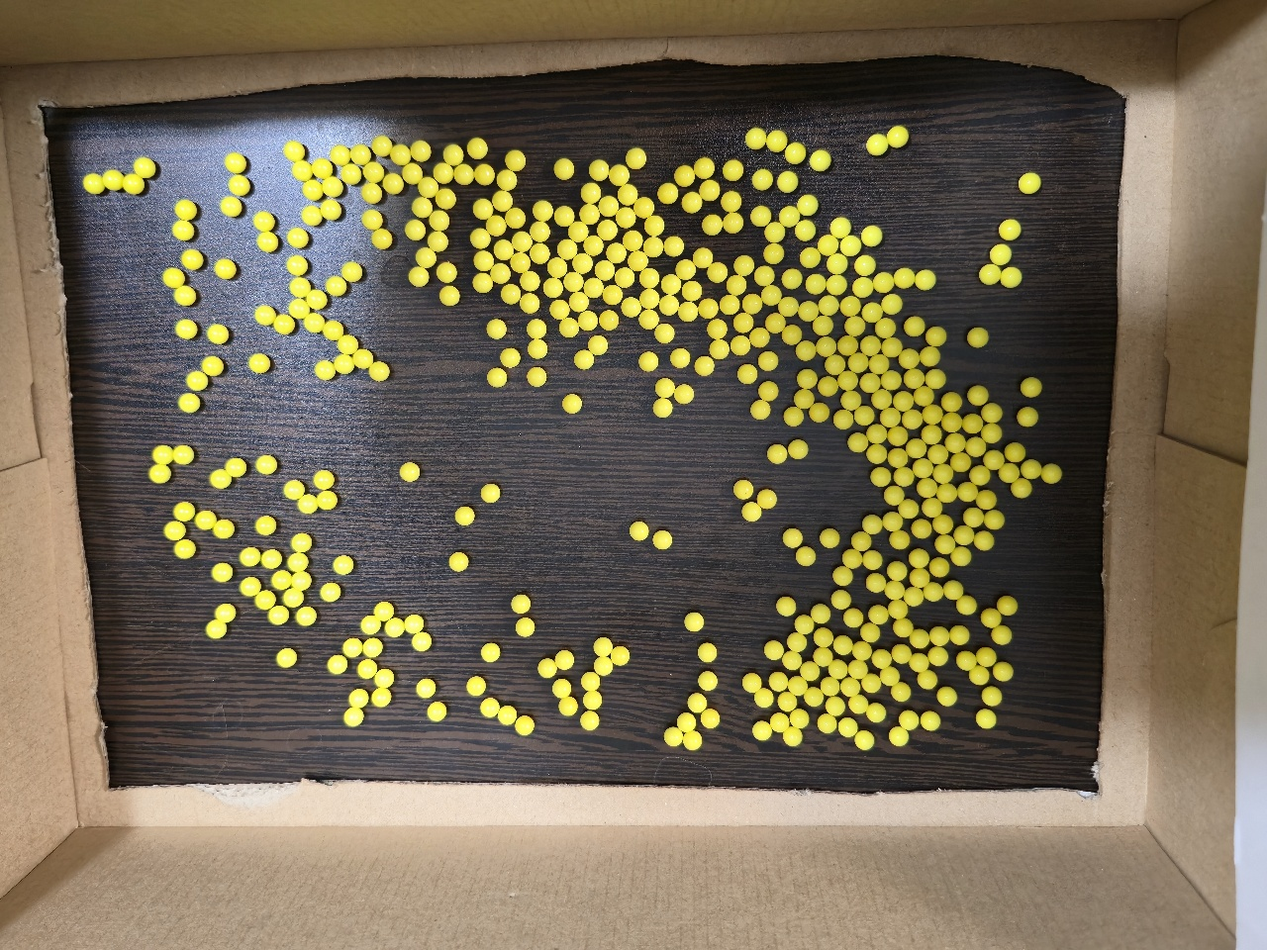yellow_bead: (984, 269, 996, 280), (1023, 178, 1035, 189), (790, 147, 801, 159), (892, 131, 904, 142), (214, 474, 227, 484), (279, 319, 290, 330), (295, 282, 306, 293), (1006, 272, 1017, 283), (421, 252, 432, 263), (845, 240, 856, 251), (1005, 225, 1016, 236), (326, 204, 337, 215), (417, 202, 428, 213), (366, 187, 377, 198), (388, 178, 399, 189), (757, 174, 768, 185), (345, 169, 356, 180), (139, 162, 150, 173), (230, 157, 241, 168), (815, 155, 826, 166), (472, 143, 483, 154), (287, 593, 299, 603), (253, 358, 265, 368), (212, 329, 224, 339), (179, 291, 191, 301), (180, 205, 192, 215), (783, 176, 793, 188), (559, 163, 569, 175), (153, 469, 166, 478), (281, 653, 292, 663), (211, 623, 222, 633), (365, 620, 376, 630), (244, 582, 255, 592), (217, 568, 228, 578), (244, 552, 255, 562), (318, 475, 329, 485), (178, 450, 189, 460), (184, 398, 195, 408), (192, 376, 203, 386), (320, 365, 331, 375), (309, 318, 320, 328), (294, 304, 305, 314), (664, 300, 674, 311), (887, 299, 897, 310), (858, 282, 868, 293), (879, 277, 889, 288), (620, 272, 630, 283), (346, 267, 357, 277), (860, 260, 870, 271), (832, 258, 842, 269), (806, 252, 816, 263), (996, 249, 1006, 260), (769, 248, 779, 259), (499, 244, 509, 255), (262, 237, 273, 247), (517, 237, 528, 247), (292, 233, 303, 243), (866, 231, 877, 241), (573, 227, 583, 238), (178, 226, 189, 236), (410, 225, 420, 236), (835, 223, 845, 234), (708, 220, 718, 231), (511, 213, 521, 224), (785, 211, 795, 222), (756, 211, 766, 222), (559, 211, 569, 222), (585, 209, 595, 220), (226, 202, 237, 212), (803, 200, 813, 211), (498, 196, 508, 207), (586, 188, 596, 199), (705, 185, 715, 196), (424, 182, 434, 193), (234, 180, 244, 191), (502, 175, 512, 186), (615, 170, 625, 181), (408, 168, 418, 179), (368, 167, 379, 177), (700, 163, 710, 174), (511, 155, 521, 166), (448, 149, 458, 160), (396, 149, 406, 160), (416, 145, 426, 156), (289, 145, 300, 155), (376, 141, 387, 151), (872, 140, 883, 150), (750, 134, 761, 144), (288, 486, 300, 495), (230, 463, 242, 472), (260, 460, 272, 469), (180, 325, 192, 334), (353, 694, 363, 704), (421, 684, 431, 694), (362, 664, 372, 674), (368, 643, 378, 653), (347, 643, 357, 653), (276, 575, 286, 585), (267, 554, 277, 564), (876, 472, 886, 482), (886, 413, 896, 423), (930, 374, 940, 384), (208, 361, 218, 371), (830, 360, 840, 370), (874, 359, 884, 369), (358, 354, 368, 364), (260, 311, 270, 321), (867, 308, 877, 318), (804, 307, 814, 317), (704, 304, 714, 314), (574, 297, 584, 307), (312, 295, 322, 305), (506, 289, 516, 299), (687, 286, 697, 296), (589, 283, 599, 293), (548, 283, 558, 293), (331, 281, 341, 291), (831, 280, 841, 290), (666, 280, 676, 290), (478, 278, 488, 288), (900, 273, 910, 283), (414, 272, 424, 282), (713, 268, 723, 278), (496, 268, 506, 278), (681, 265, 691, 275), (739, 261, 749, 271), (578, 258, 588, 268), (516, 257, 526, 267), (479, 256, 489, 266), (612, 248, 622, 258), (669, 241, 679, 251), (589, 240, 599, 250), (770, 228, 780, 238), (801, 226, 811, 236), (603, 225, 613, 235), (367, 215, 377, 225), (307, 211, 317, 221), (538, 206, 548, 216), (478, 204, 488, 214), (328, 182, 338, 192), (680, 171, 690, 181), (297, 166, 307, 176), (772, 136, 782, 146), (301, 612, 312, 621), (220, 609, 231, 618), (259, 596, 270, 605), (292, 558, 303, 567), (296, 538, 307, 547), (169, 526, 180, 535), (322, 496, 333, 505), (865, 341, 876, 350), (342, 340, 353, 349), (328, 326, 339, 335), (627, 302, 636, 313), (767, 290, 776, 301), (168, 273, 179, 282), (553, 262, 562, 273), (649, 241, 658, 252), (650, 221, 659, 232), (258, 217, 269, 226), (688, 197, 697, 208), (727, 196, 736, 207), (624, 189, 633, 200), (594, 165, 603, 176), (632, 153, 641, 164), (178, 509, 190, 517), (860, 735, 869, 745), (757, 726, 767, 735), (843, 722, 852, 732), (905, 715, 914, 725), (981, 714, 991, 723), (349, 712, 358, 722), (588, 695, 597, 705), (376, 694, 386, 703), (845, 683, 855, 692), (379, 674, 389, 683), (599, 661, 608, 671), (333, 660, 342, 670), (769, 646, 779, 655), (599, 642, 608, 652), (417, 637, 427, 646), (390, 622, 399, 632), (379, 607, 389, 616), (297, 577, 307, 586), (338, 561, 348, 570), (868, 555, 877, 565), (788, 533, 798, 542), (960, 530, 969, 540), (302, 500, 312, 509), (900, 472, 909, 482), (938, 469, 948, 478), (1005, 468, 1014, 478), (405, 468, 415, 477), (933, 450, 943, 459), (157, 450, 167, 459), (912, 444, 922, 453), (853, 438, 863, 447), (909, 415, 918, 425), (839, 415, 848, 425), (859, 412, 869, 421), (846, 396, 856, 405), (877, 395, 887, 404), (866, 378, 875, 388), (910, 374, 920, 383), (803, 374, 812, 384), (374, 367, 384, 376), (854, 358, 863, 368), (905, 354, 915, 363), (716, 344, 725, 354), (888, 342, 897, 352), (822, 341, 831, 351), (736, 340, 745, 350), (594, 340, 603, 350), (931, 332, 941, 341), (713, 325, 723, 334), (881, 324, 891, 333), (851, 322, 860, 332), (819, 321, 828, 331), (584, 316, 593, 326), (644, 315, 654, 324), (684, 307, 693, 317), (555, 305, 564, 315), (845, 302, 855, 311), (784, 302, 793, 312), (824, 301, 833, 311), (645, 294, 654, 304), (445, 291, 454, 301), (609, 290, 618, 300), (812, 279, 821, 289), (569, 277, 578, 287), (526, 276, 535, 286), (921, 275, 930, 285), (788, 274, 797, 284), (645, 273, 654, 283), (760, 271, 769, 281), (601, 265, 610, 275), (699, 253, 708, 263), (535, 248, 544, 258), (563, 244, 572, 254), (824, 240, 833, 250), (475, 234, 485, 243), (376, 234, 386, 243), (491, 222, 501, 231), (729, 218, 738, 228), (435, 216, 444, 226), (622, 213, 631, 223), (639, 203, 649, 212), (442, 194, 451, 204), (308, 185, 317, 195), (459, 169, 468, 179), (439, 168, 448, 178), (335, 150, 344, 160), (273, 611, 284, 619), (260, 522, 271, 530), (220, 264, 231, 272), (536, 227, 544, 238), (604, 201, 612, 212), (665, 188, 673, 199), (482, 169, 490, 180), (730, 165, 738, 176), (317, 163, 328, 171), (355, 149, 363, 160), (688, 736, 697, 745), (895, 732, 904, 741), (669, 732, 678, 741), (520, 721, 529, 730), (775, 718, 784, 727), (682, 718, 691, 727), (926, 716, 935, 725), (795, 714, 804, 723), (706, 714, 715, 723), (503, 711, 512, 720), (831, 702, 840, 711), (854, 700, 863, 709), (693, 699, 702, 708), (783, 698, 792, 707), (759, 694, 768, 703), (810, 693, 819, 702), (988, 692, 997, 701), (943, 692, 952, 701), (897, 688, 906, 697), (557, 684, 566, 693), (794, 682, 803, 691), (472, 682, 481, 691), (867, 679, 876, 688), (774, 678, 783, 687), (704, 677, 713, 686), (886, 672, 895, 681), (806, 667, 815, 676), (833, 665, 842, 674), (788, 656, 797, 665), (560, 656, 569, 665), (616, 652, 625, 661), (486, 648, 495, 657), (838, 641, 847, 650), (793, 638, 802, 647), (916, 634, 925, 643), (935, 632, 944, 641), (521, 623, 530, 632), (410, 619, 419, 628), (782, 603, 791, 612), (517, 600, 526, 609), (837, 596, 846, 605), (872, 579, 881, 588), (893, 567, 902, 576), (957, 552, 966, 561), (941, 540, 950, 549), (857, 537, 866, 546), (634, 526, 643, 535), (460, 512, 469, 521), (747, 508, 756, 517), (928, 504, 937, 513), (763, 495, 772, 504), (890, 491, 899, 500), (486, 489, 495, 498), (990, 456, 999, 465), (773, 450, 782, 459), (794, 445, 803, 454), (972, 442, 981, 451), (988, 429, 997, 438), (873, 429, 882, 438), (988, 409, 997, 418), (756, 406, 765, 415), (568, 400, 577, 409), (800, 395, 809, 404), (680, 390, 689, 399), (764, 387, 773, 396), (661, 384, 670, 393), (887, 376, 896, 385), (844, 376, 853, 385), (493, 373, 502, 382), (743, 370, 752, 379), (644, 357, 653, 366), (764, 356, 773, 365), (580, 355, 589, 364), (506, 353, 515, 362), (802, 346, 811, 355), (755, 333, 764, 342), (974, 333, 983, 342), (493, 325, 502, 334), (911, 323, 920, 332), (565, 323, 574, 332), (739, 319, 748, 328), (748, 300, 757, 309), (526, 299, 535, 308), (732, 281, 741, 290), (442, 268, 451, 277), (634, 256, 643, 265), (433, 237, 442, 246), (587, 677, 595, 687), (867, 521, 877, 529), (888, 518, 898, 526), (1026, 466, 1036, 474), (899, 398, 909, 406), (340, 359, 348, 369), (926, 351, 934, 361), (296, 260, 303, 271), (789, 732, 797, 741), (823, 719, 831, 728), (586, 716, 594, 725), (872, 709, 881, 717), (486, 704, 494, 713), (564, 703, 572, 712), (748, 679, 756, 688), (999, 668, 1008, 676), (543, 664, 551, 673), (915, 659, 924, 667), (878, 655, 886, 664), (934, 652, 942, 661), (858, 647, 867, 655), (820, 633, 828, 642), (998, 631, 1007, 639), (866, 629, 875, 637), (690, 618, 699, 626), (874, 611, 883, 619), (817, 610, 826, 618), (894, 606, 903, 614), (962, 602, 971, 610), (910, 593, 919, 601), (929, 588, 938, 596), (949, 587, 958, 595), (891, 587, 900, 595), (839, 572, 847, 581), (454, 558, 463, 566), (915, 555, 924, 563), (848, 555, 857, 563), (802, 553, 811, 561), (980, 537, 989, 545), (658, 536, 667, 544), (826, 534, 834, 543), (970, 513, 978, 522), (943, 490, 952, 498), (963, 489, 972, 497), (1017, 485, 1026, 493), (924, 484, 932, 493), (976, 471, 984, 480), (919, 464, 927, 473), (895, 453, 903, 462), (873, 450, 882, 458), (952, 438, 960, 447), (895, 431, 903, 440), (1023, 414, 1032, 422), (790, 413, 799, 421), (659, 404, 667, 413), (974, 392, 983, 400), (1026, 384, 1035, 392), (700, 362, 709, 370), (676, 354, 685, 362), (534, 344, 542, 353), (788, 331, 797, 339), (660, 330, 669, 338), (532, 325, 541, 333), (606, 316, 614, 325), (726, 301, 734, 310), (629, 236, 637, 245), (904, 507, 914, 514), (433, 708, 441, 716), (924, 676, 932, 684), (854, 666, 862, 674), (898, 650, 906, 658), (704, 649, 712, 657), (956, 631, 964, 639), (900, 624, 908, 632), (801, 621, 809, 629), (916, 575, 924, 583), (896, 536, 904, 544), (991, 516, 999, 524), (1048, 470, 1056, 478), (772, 320, 780, 328), (975, 673, 984, 680), (849, 615, 858, 622), (184, 545, 191, 554), (927, 432, 936, 439), (816, 409, 823, 418), (534, 373, 541, 382), (827, 683, 834, 691), (820, 654, 828, 661), (939, 521, 947, 528), (739, 486, 748, 492), (825, 382, 831, 391), (983, 656, 991, 662), (988, 616, 996, 622), (134, 181, 140, 189), (962, 660, 971, 665), (193, 254, 198, 263), (936, 566, 943, 572), (919, 527, 926, 533), (921, 395, 928, 401), (92, 182, 98, 189), (1004, 606, 1012, 611), (225, 525, 230, 533), (843, 345, 851, 350), (332, 588, 336, 597), (929, 415, 936, 420), (207, 516, 211, 524), (982, 501, 990, 505), (971, 424, 978, 428), (949, 424, 956, 428), (958, 462, 963, 467), (111, 180, 116, 185), (949, 402, 953, 407), (114, 174, 117, 178), (1015, 451, 1017, 456), (94, 178, 96, 181), (205, 524, 206, 525)
